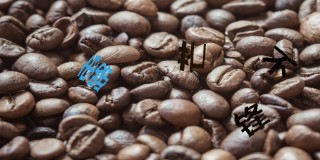不: (262, 46, 297, 78)
芒: (176, 40, 207, 73)
锋: (234, 103, 271, 138)
露: (77, 54, 113, 91)
